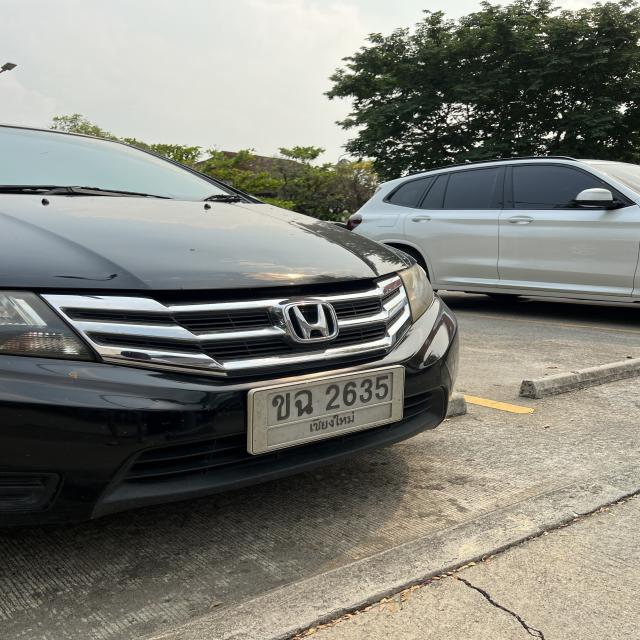license_plate: (246, 363, 403, 455)
